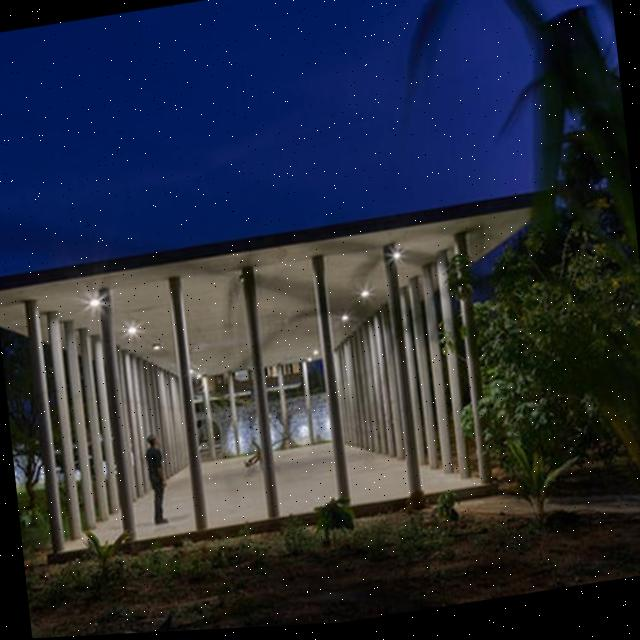building: (0, 184, 580, 574)
